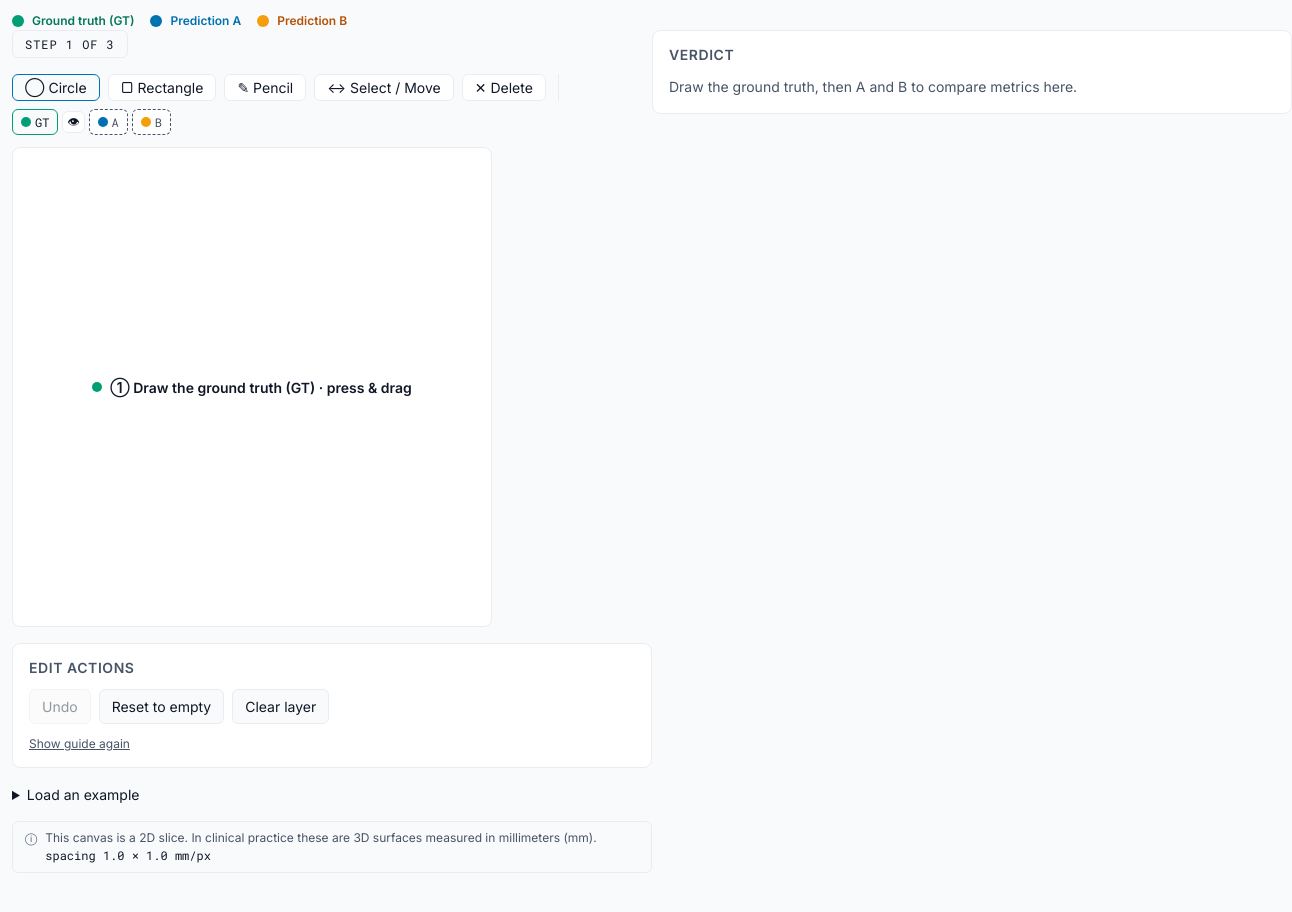
Playground (guided empty boot) › shows the dormant gating line naming the remaining step, no table, while gated
Expected: the text "Draw the ground truth, then A and B to compare metrics here." is shown, [669,78,1077,95]
Press the mouse on the drawing named "Segmentation editor" at (252, 387), box [12,147,492,627]
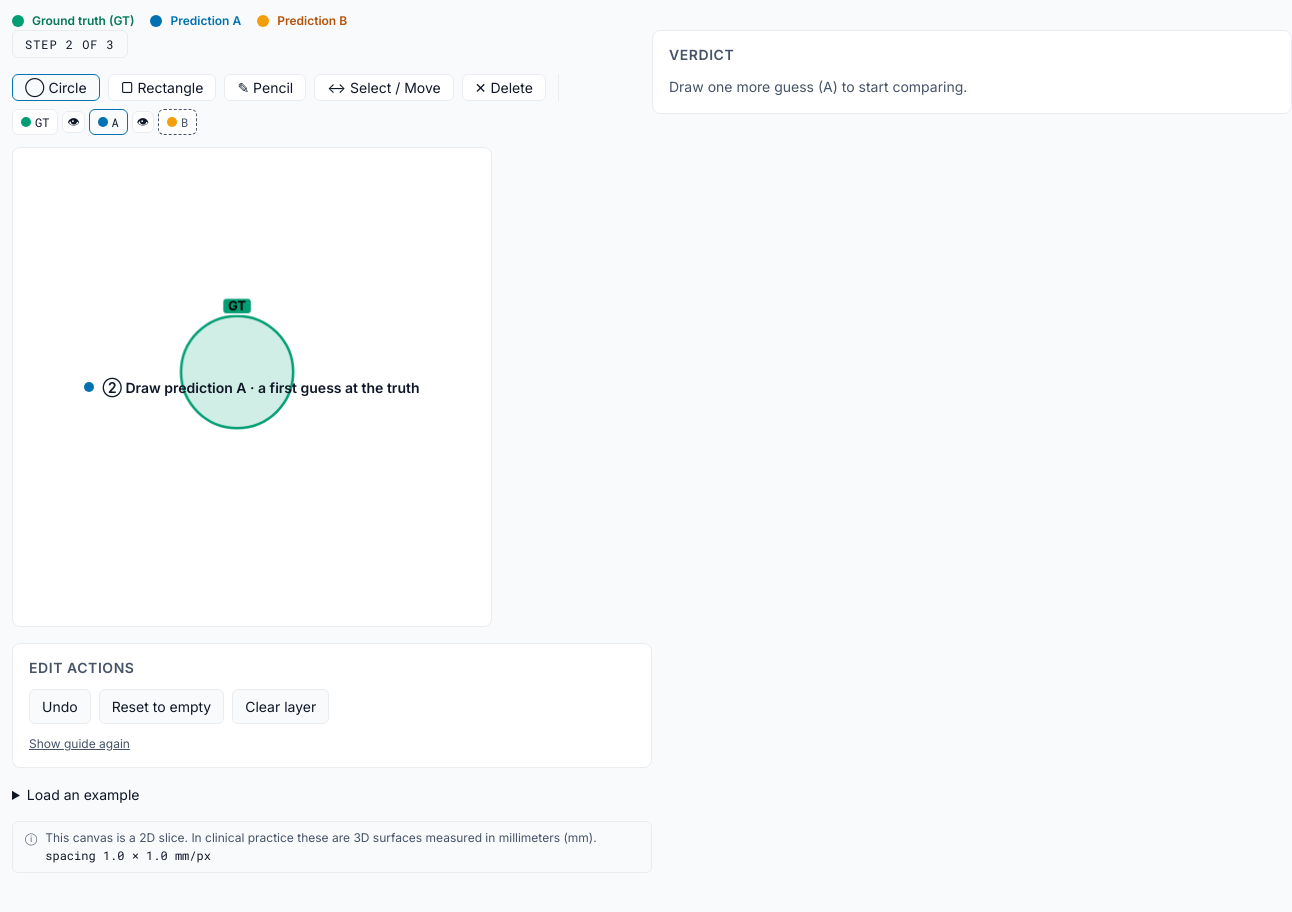
Now the text "Draw one more guess (A) to start comparing." is shown, box [669,78,967,95]
Press the mouse on the drawing named "Segmentation editor" at (252, 387), box [12,147,492,627]
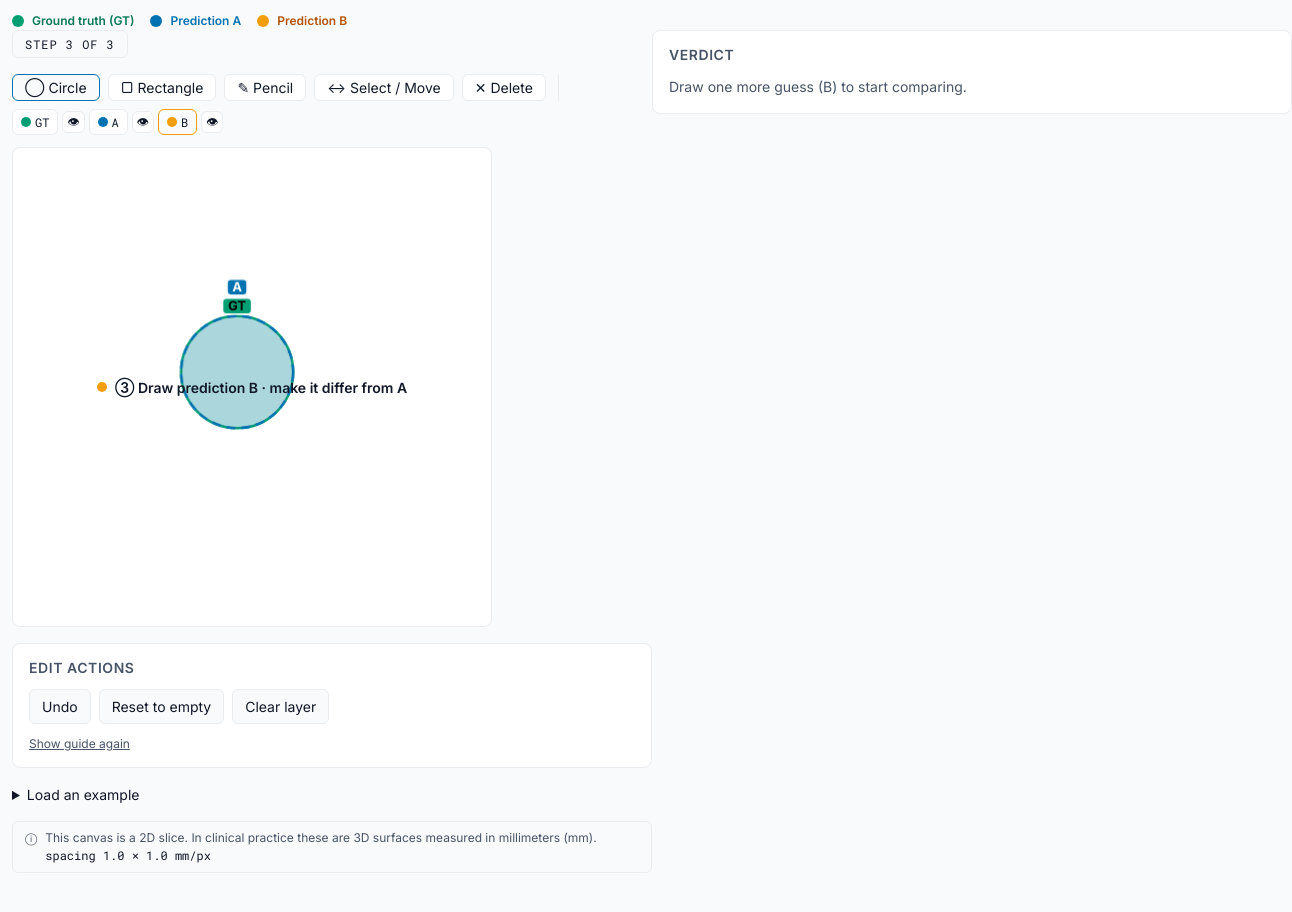
Now the text "Draw one more guess (B) to start comparing." is shown, box [669,78,967,95]
